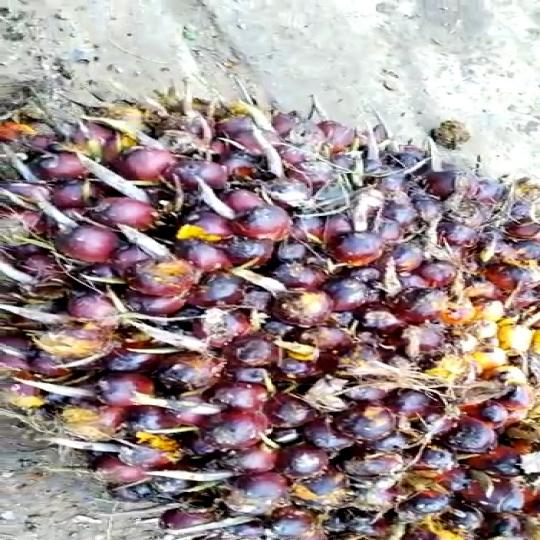kurang masak: (0, 78, 540, 540)
